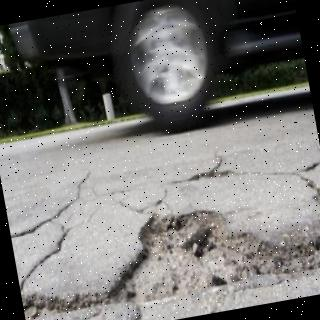pothole: (21, 210, 320, 320)
